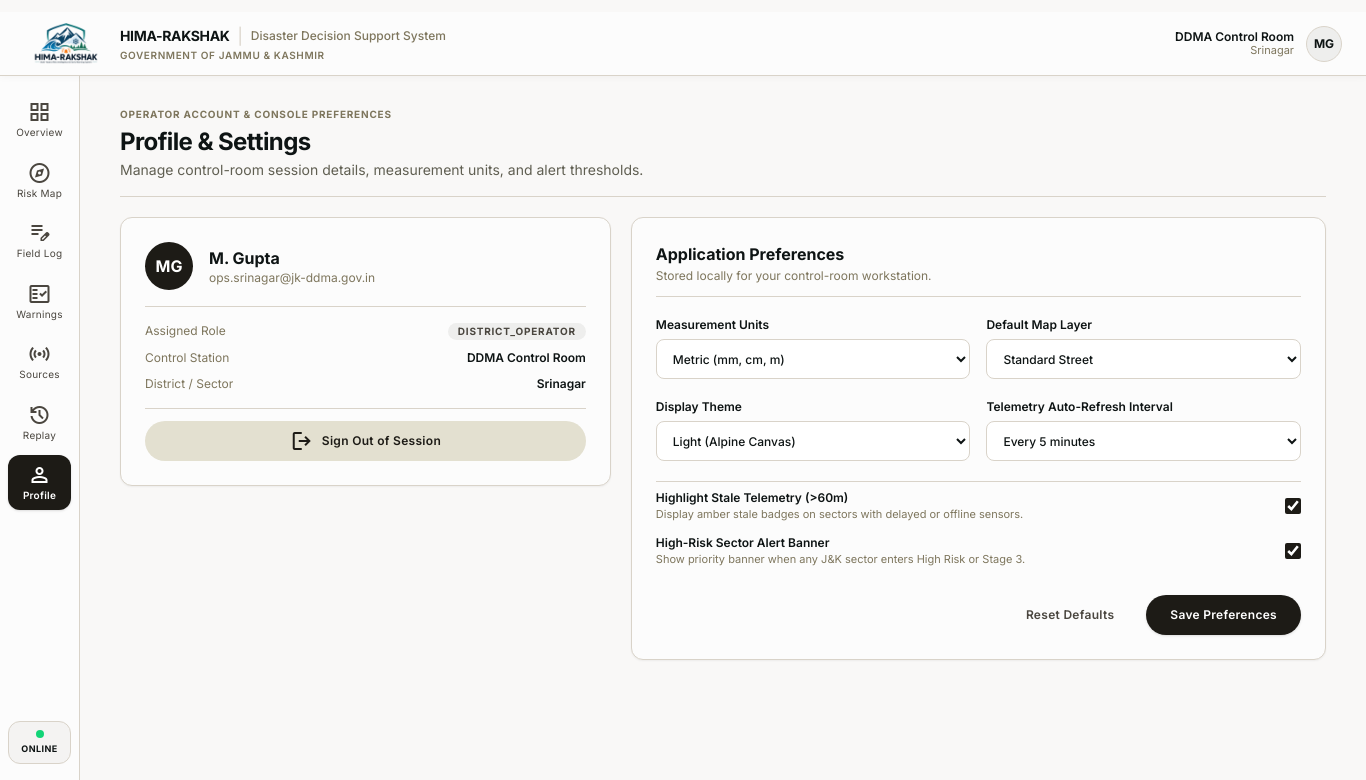
Test case: ProfilePage › renders operator account details and persists updated preferences
Expected: the heading "Profile & Settings" is shown, [120, 127, 311, 156]
Expected: the heading "M. Gupta" is shown, [209, 248, 280, 268]
Select "Imperial (in, ft)" in the dropdown labelled "Measurement Units" at (813, 359), box [656, 339, 970, 379]
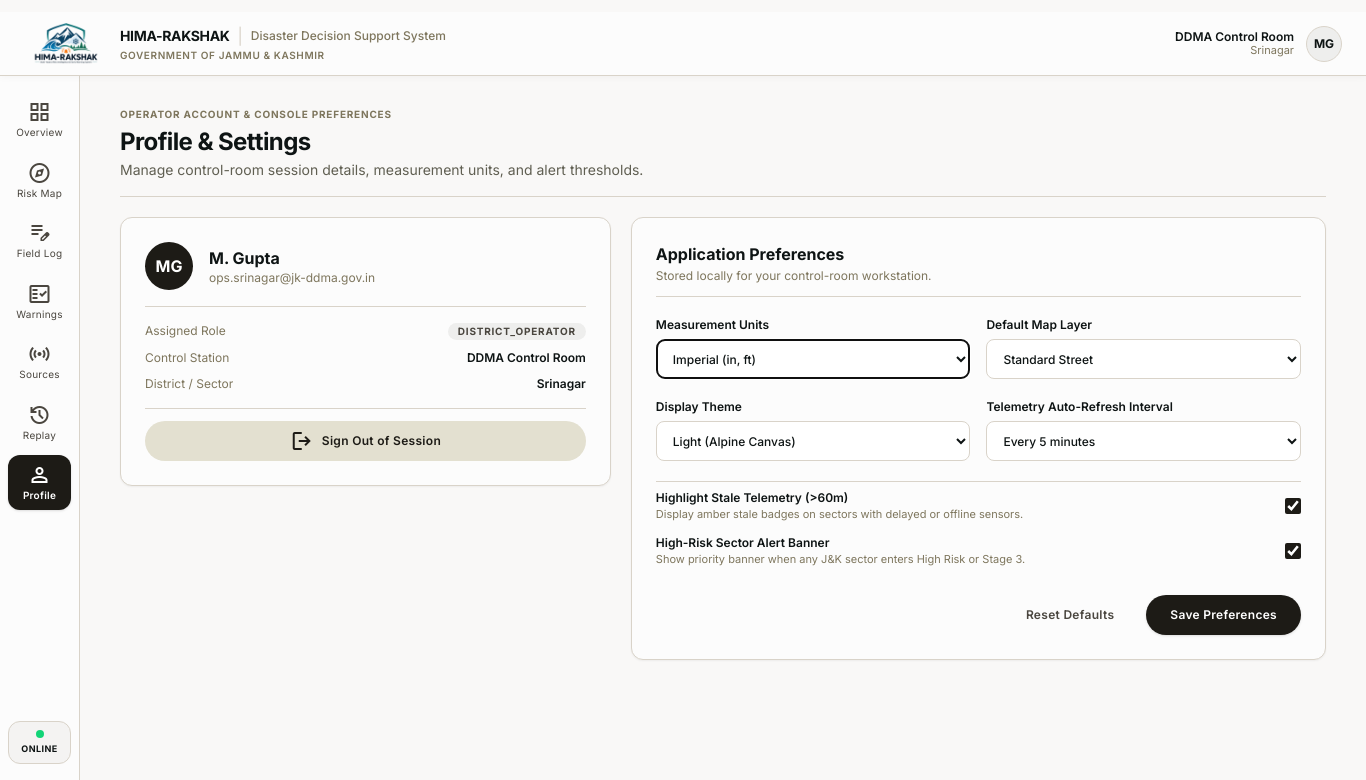
Select "Alpine Terrain" in the dropdown labelled "Default Map Layer" at (1144, 359), box [986, 339, 1301, 379]
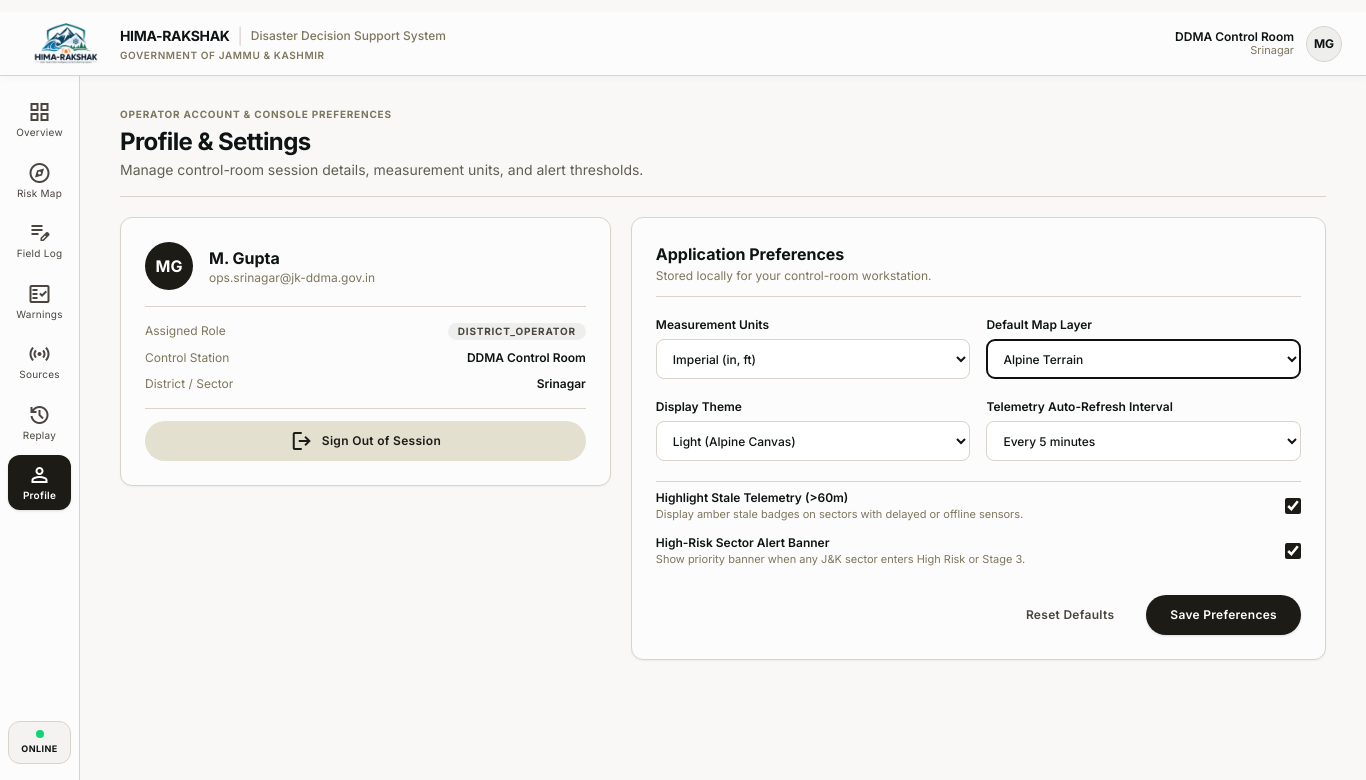
Click the button "Save Preferences" at (1224, 615), box [1146, 595, 1301, 635]
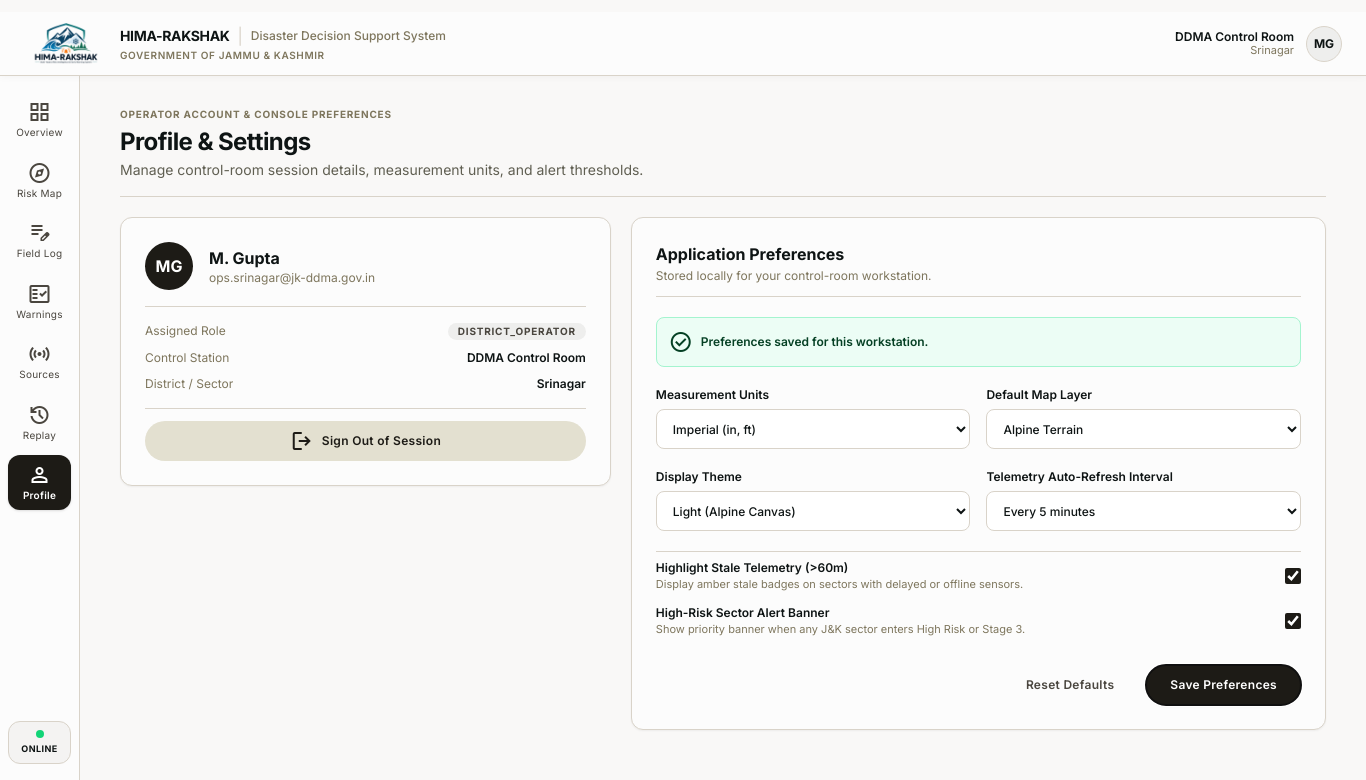
Now the text "Preferences saved for this workstation." is shown, box [701, 334, 928, 350]
